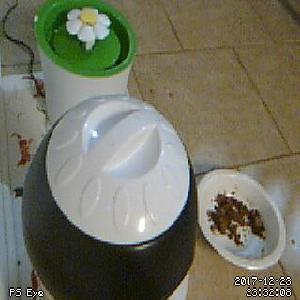fountain: (33, 1, 135, 78)
